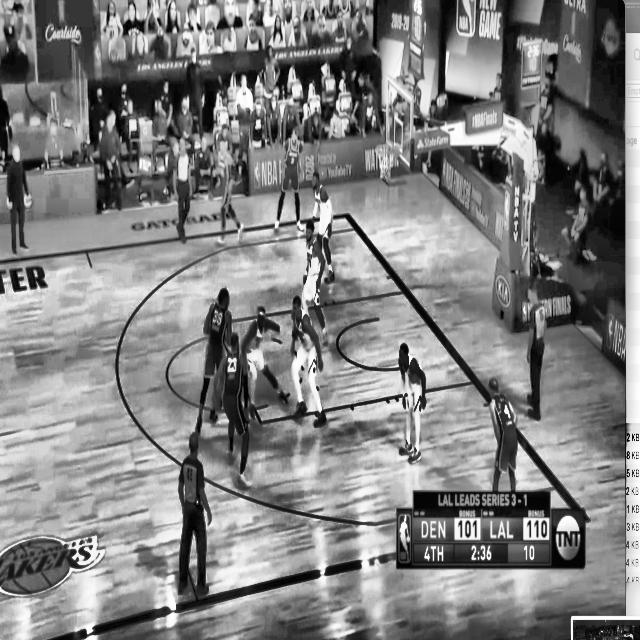Basketball: (213, 395, 222, 410)
